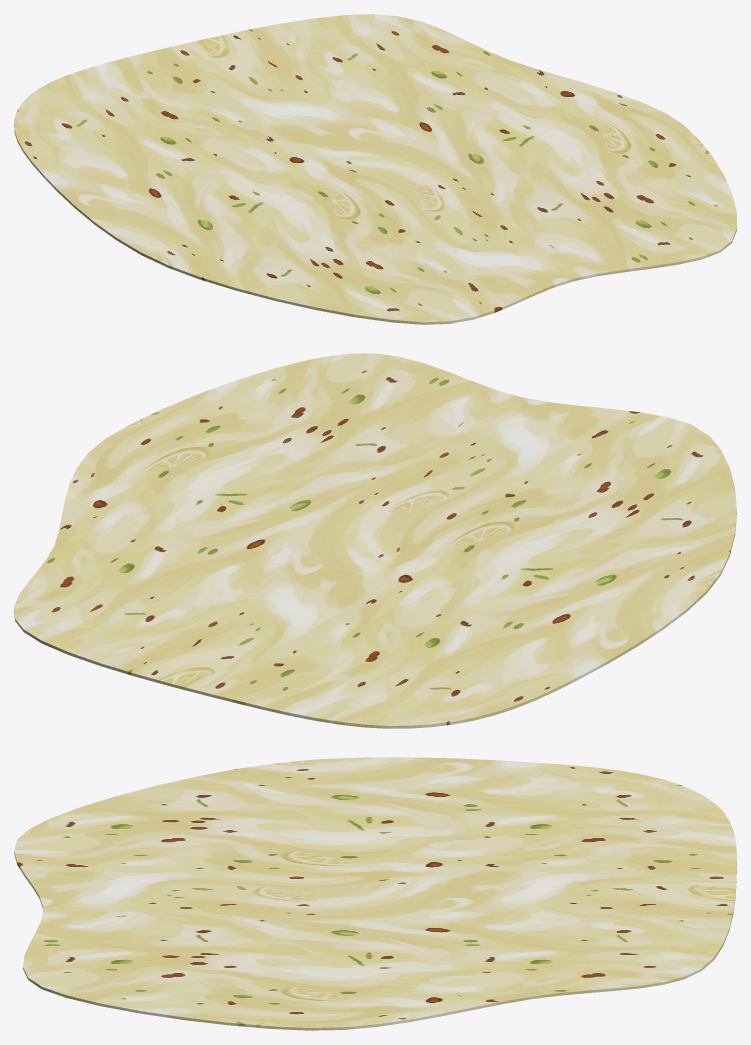
The model's file is JUGO LIMON FINAL.fbx.
The picture shows the model from 3 angles, top to bottom: view 1: azimuth 30°, elevation 25°; view 2: azimuth 150°, elevation 25°; view 3: azimuth 270°, elevation 25°; orthographic projection. The views are drawn at different scales.
Parts seen in each view (by area): view 1: JUGO LIMON FINAL; view 2: JUGO LIMON FINAL; view 3: JUGO LIMON FINAL.
Part boxes in pixels (box(x1,y1,x2,y2)): JUGO LIMON FINAL: box(14, 14, 736, 324); JUGO LIMON FINAL: box(14, 353, 736, 728); JUGO LIMON FINAL: box(14, 757, 736, 1030).
Size of the model in its own units: 51.02 by 0.2285 by 57.57.
1 material, 1 textured.
